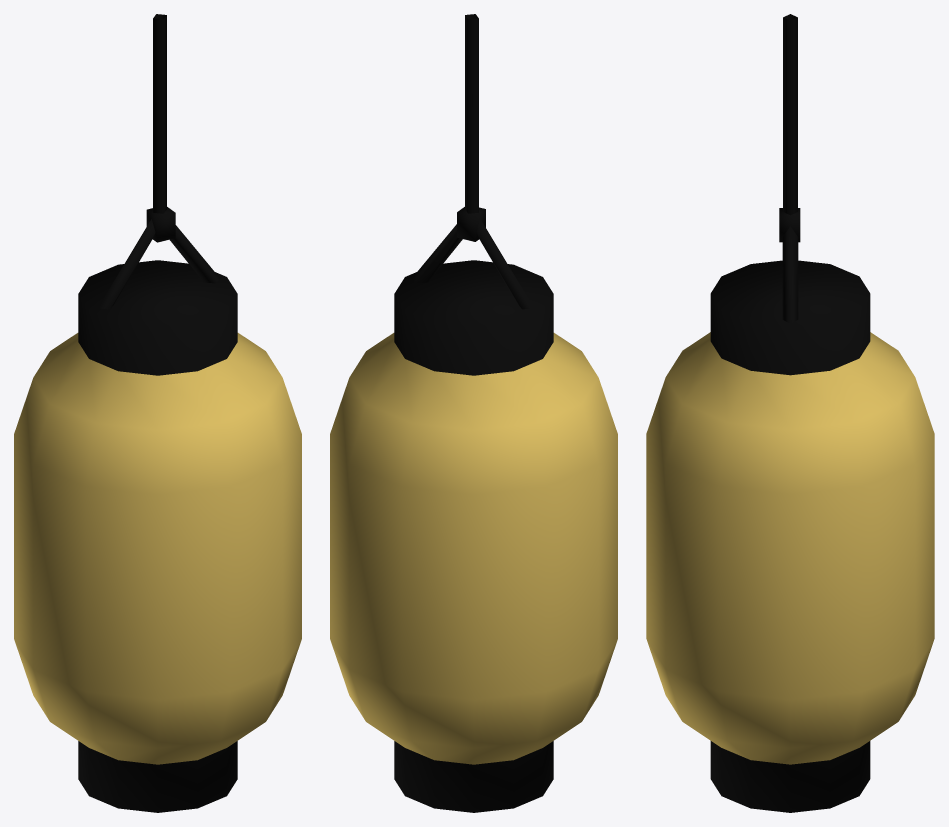
The model's file is SM_lantern_japan_01.fbx.
3 views of the same model, side by side, from view 1: azimuth 30°, elevation 25°; view 2: azimuth 150°, elevation 25°; view 3: azimuth 270°, elevation 25° (orthographic).
Parts seen in each view (by area): view 1: Sphere001; view 2: Sphere001; view 3: Sphere001.
Boxes of the visible parts, left/top/right/bottom form: Sphere001: left=14, top=14, right=301, bottom=812; Sphere001: left=330, top=14, right=617, bottom=812; Sphere001: left=646, top=14, right=934, bottom=812.
Bounding box in the file's own units: 17.83 × 52.08 × 17.83.
